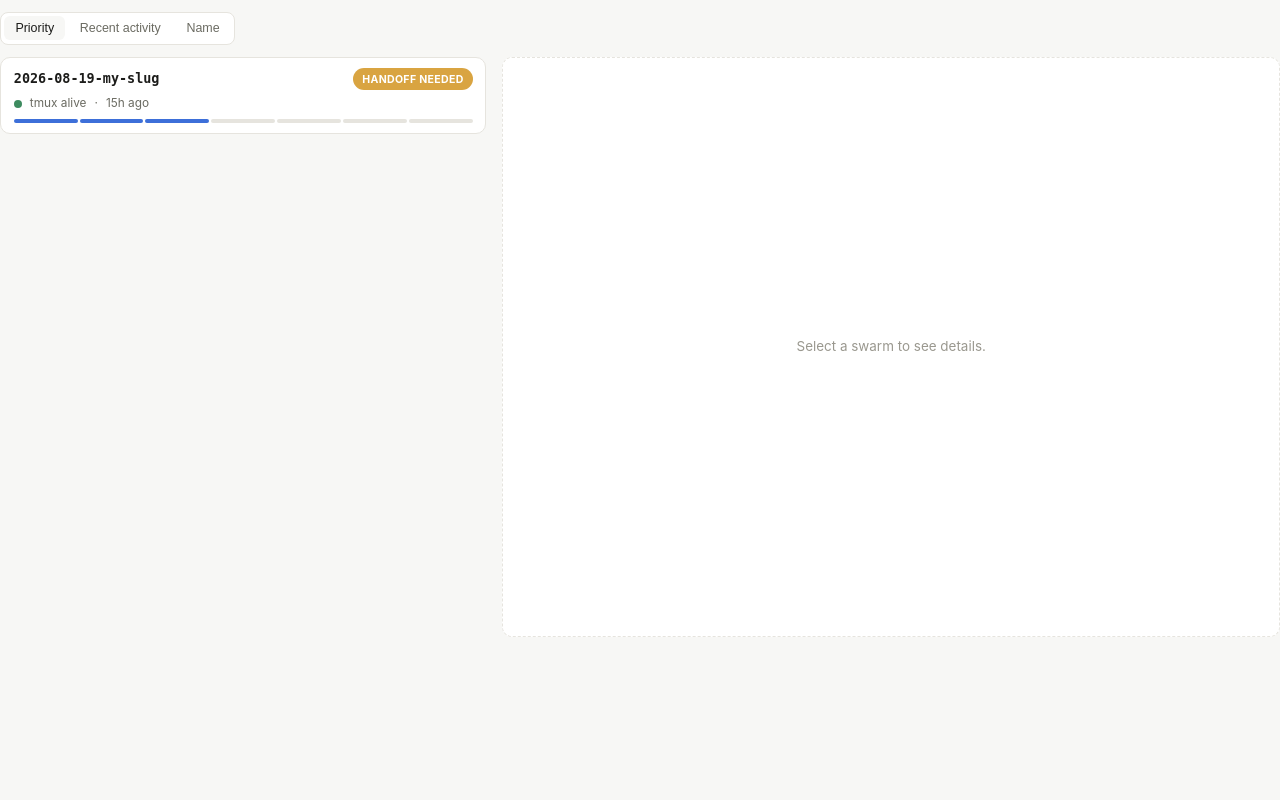
Test: SwarmsTab › closing the detail panel deselects and returns to the empty state
Click the text "2026-08-19-my-slug" at (87, 79), box [14,69,159,89]
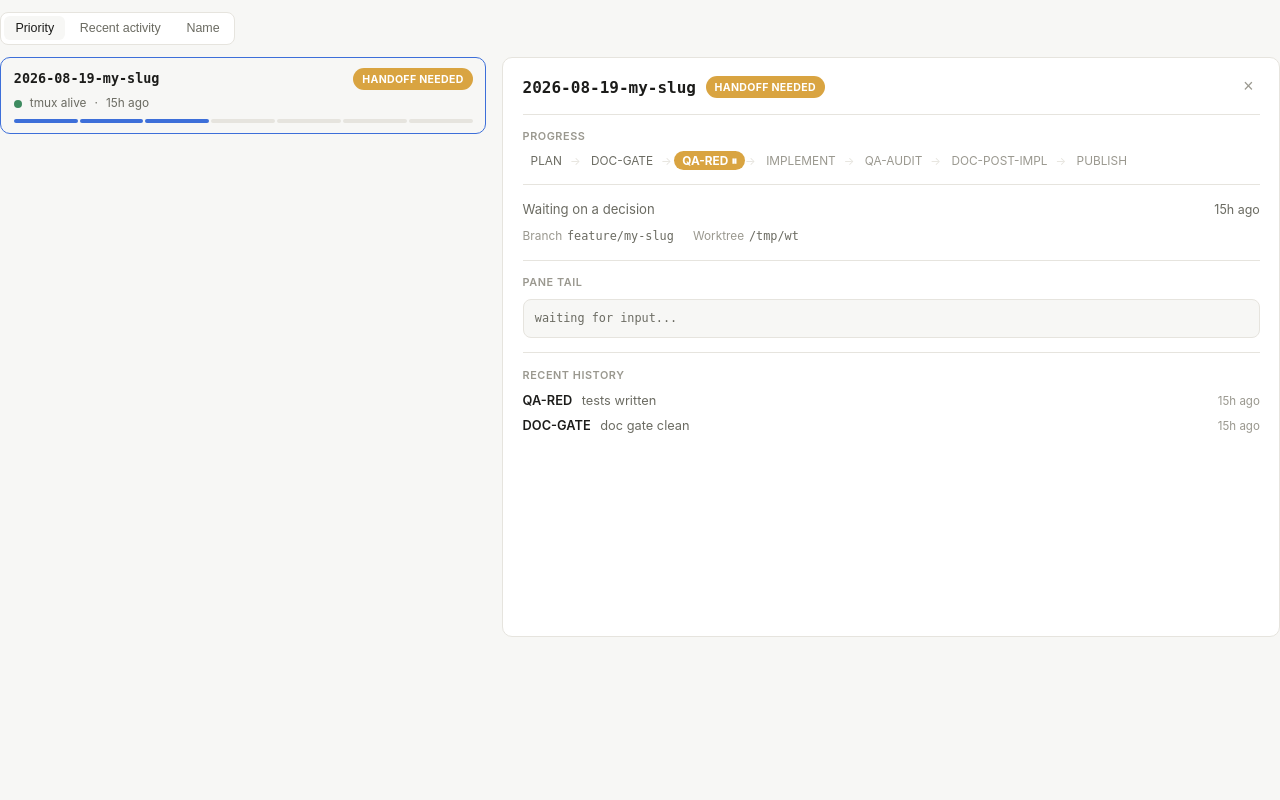
Result: the text "feature/my-slug" is shown at [567,229,674,243]
Click the button named "Close detail panel" at (1248, 87), box [1237,75,1260,99]
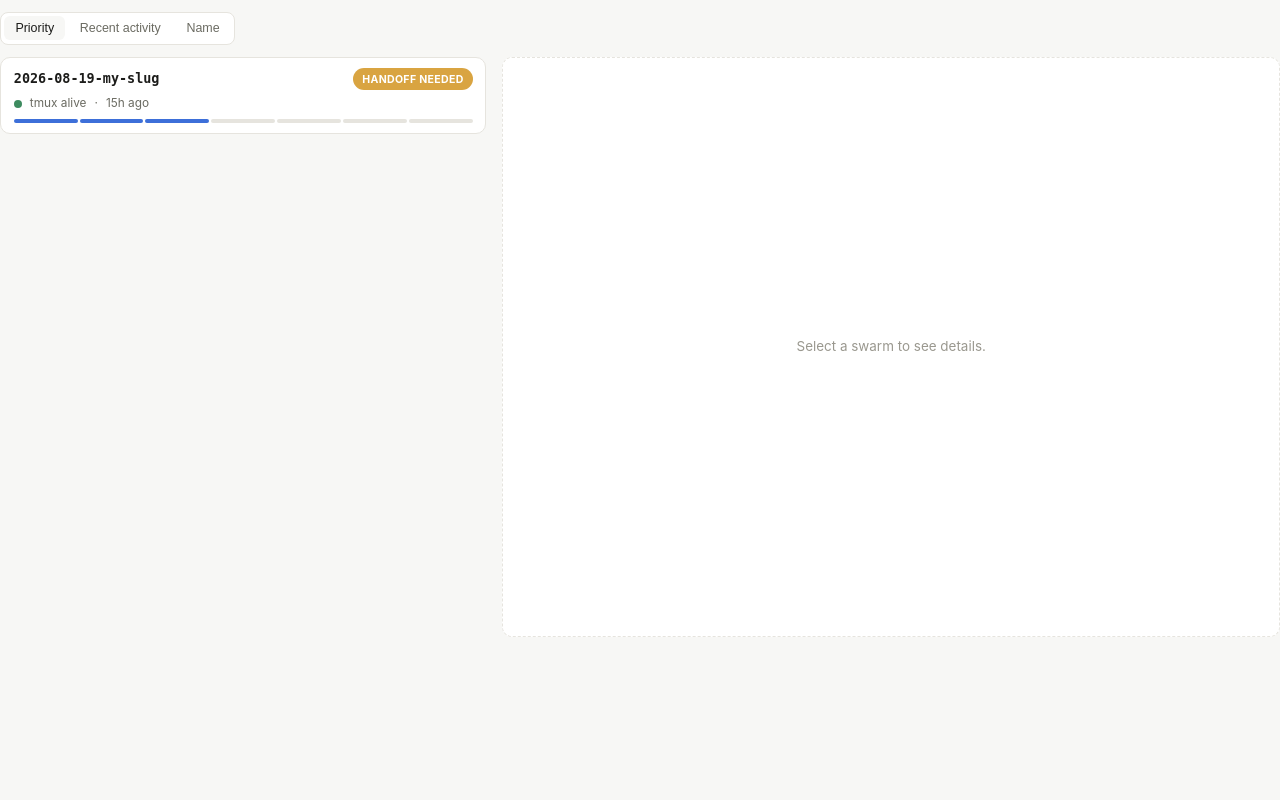
Result: the text "Select a swarm to see details." is shown at [502,57,1279,637]
Result: the text "feature/my-slug" is gone
